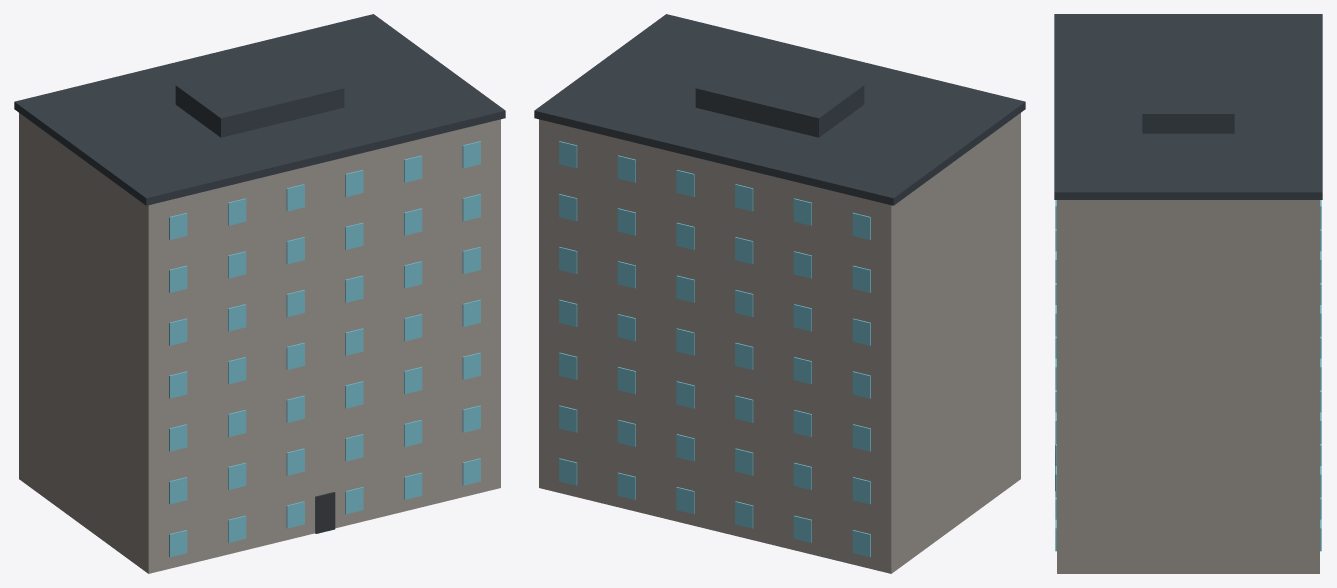
Rendered from apartment_midrise.glb.
3 renders of one model, left to right at view 1: azimuth 30°, elevation 25°; view 2: azimuth 150°, elevation 25°; view 3: azimuth 270°, elevation 25°, orthographic.
Parts seen in each view (by area): view 1: body, roof, mech, door; view 2: body, roof, mech; view 3: body, roof, mech.
Boxes of the visible parts, box(x1,y1,x2,y2) form: body: box(19, 113, 500, 573); roof: box(14, 14, 505, 205); mech: box(175, 55, 344, 137); door: box(315, 492, 335, 533); body: box(539, 113, 1020, 573); roof: box(534, 14, 1025, 205); mech: box(695, 55, 864, 137); body: box(1057, 200, 1319, 573); roof: box(1054, 14, 1322, 199); mech: box(1142, 53, 1234, 133).
Size of the model in its own units: 22.44 by 23.68 by 14.28.
